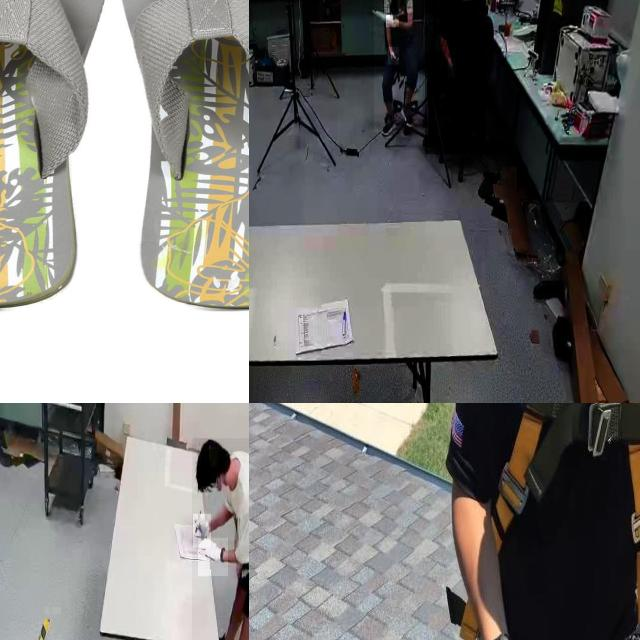Harness: (469, 403, 640, 640)
Sandals: (0, 0, 249, 313)
hand_glove: (198, 538, 228, 576), (193, 514, 211, 548)
hand_noglove: (388, 47, 400, 65), (386, 15, 400, 28), (448, 58, 456, 80)
head_nohelmet: (194, 438, 210, 492)
person: (192, 438, 249, 640), (425, 0, 486, 155), (374, 0, 423, 133)
shoes: (380, 104, 400, 141), (400, 97, 417, 133), (204, 628, 235, 640)
